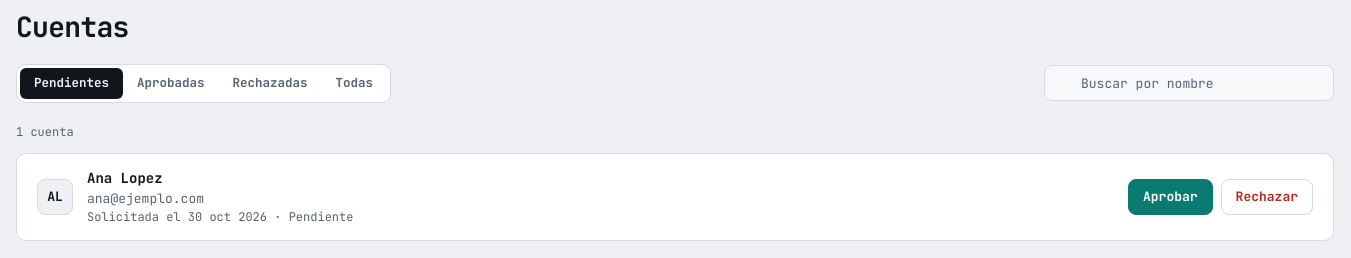
Test: PaginaAdministracion › aprueba una cuenta, avisa y recarga la lista
The width and height of the screenshot is (1351, 258).
Click the button with aria-label "Aprobar a Ana Lopez" at (1170, 197), box [1128,179,1213,215]
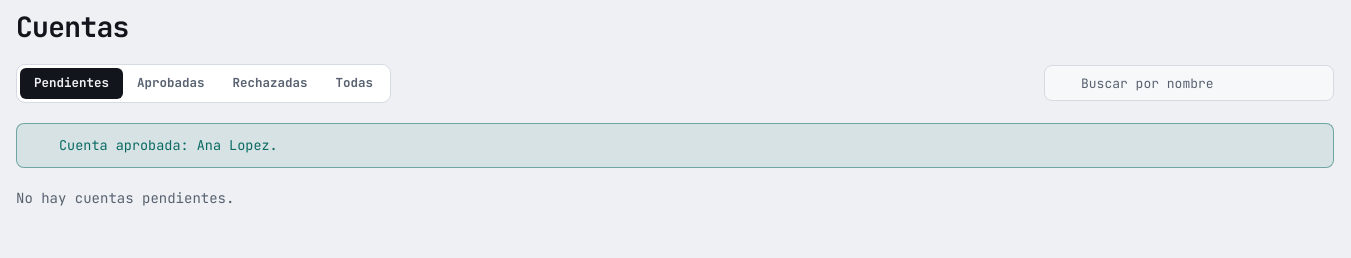
Result: the message reads "Cuenta aprobada: Ana Lopez." at [59,136,278,154]
Result: the text "No hay cuentas pendientes." is shown at [16,189,234,207]
